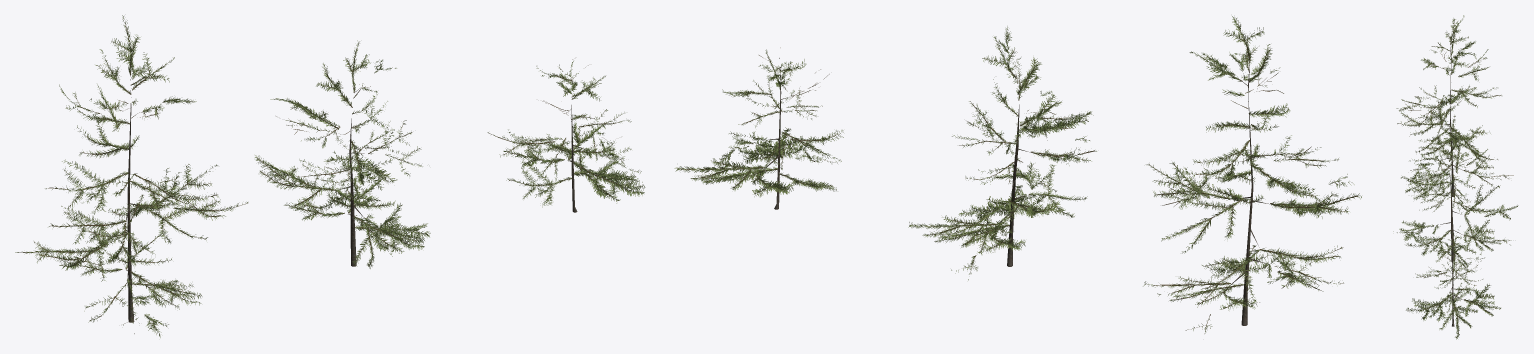
File: fir_sapling.gltf
The picture shows the model from 3 angles, left to right: view 1: azimuth 30°, elevation 25°; view 2: azimuth 150°, elevation 25°; view 3: azimuth 270°, elevation 25°; orthographic projection. The views are drawn at different scales.
Parts seen in each view (by area): view 1: fir_sapling_a, fir_sapling_b, fir_sapling_c; view 2: fir_sapling_a, fir_sapling_b, fir_sapling_c; view 3: fir_sapling_a, fir_sapling_b, fir_sapling_c.
Part boxes in pixels (x1,y1,x2,y2): fir_sapling_a: (15, 15, 248, 337); fir_sapling_b: (255, 40, 430, 268); fir_sapling_c: (487, 59, 645, 212); fir_sapling_a: (1143, 16, 1361, 333); fir_sapling_b: (908, 26, 1096, 280); fir_sapling_c: (674, 47, 843, 209); fir_sapling_a: (1396, 15, 1513, 207); fir_sapling_b: (1393, 129, 1518, 273); fir_sapling_c: (1406, 226, 1500, 339).
Size of the model in its own units: 2.74 by 1.3 by 0.8166.
2 materials, 2 textured.
